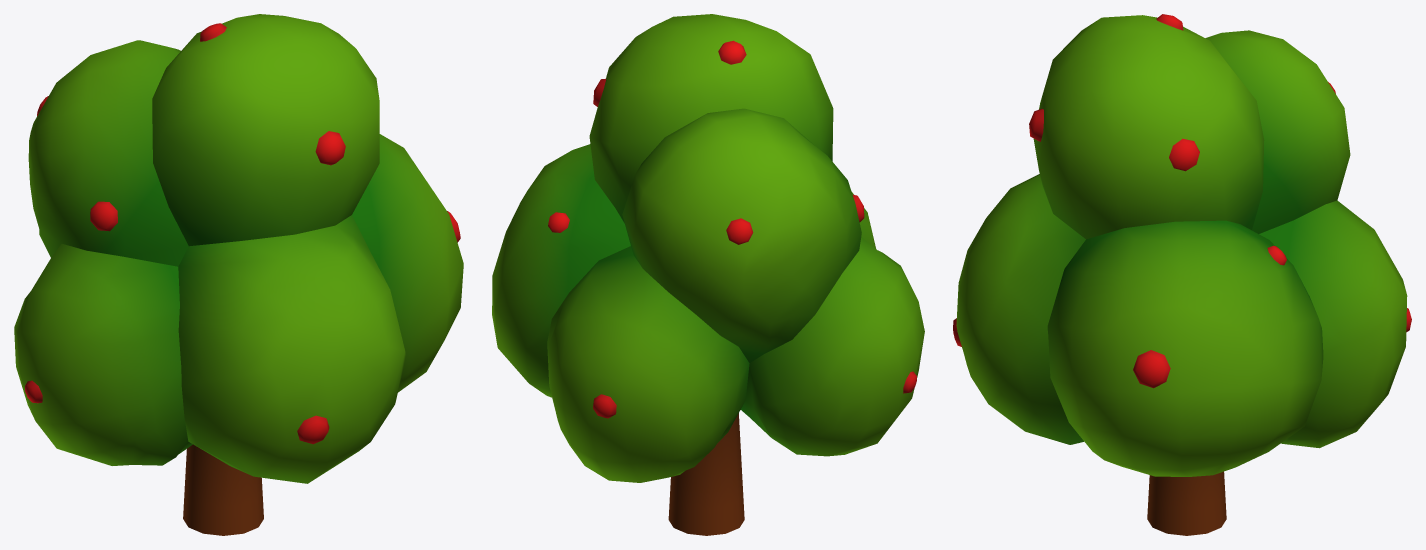
The model's file is Tree03.fbx.
The picture shows the model from 3 angles, left to right: view 1: azimuth 30°, elevation 25°; view 2: azimuth 150°, elevation 25°; view 3: azimuth 270°, elevation 25°; orthographic projection. The views are drawn at different scales.
Parts seen in each view (by area): view 1: LOD0; view 2: LOD0; view 3: LOD0.
Boxes of the visible parts, x1,y1,x2,y2 form: LOD0: (14, 14, 463, 535); LOD0: (492, 14, 924, 535); LOD0: (953, 14, 1411, 535).
Size of what is drawn, in the model's own units: 370 by 351 by 419.
